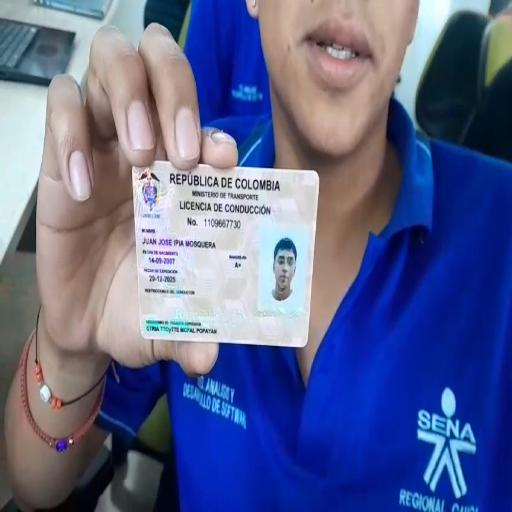colombia: (167, 167, 282, 192)
escudo de colombia: (137, 171, 166, 220)
fechaexpedicion: (148, 270, 181, 290)
fechanacimiento: (147, 256, 180, 268)
foto: (261, 236, 303, 317)
ministerio de transporte: (192, 188, 261, 204)
nombre: (139, 235, 225, 252)
numerolic: (201, 214, 247, 232)
tarjeta conduccion: (132, 164, 319, 343)
titulo licencia: (177, 198, 275, 217)
